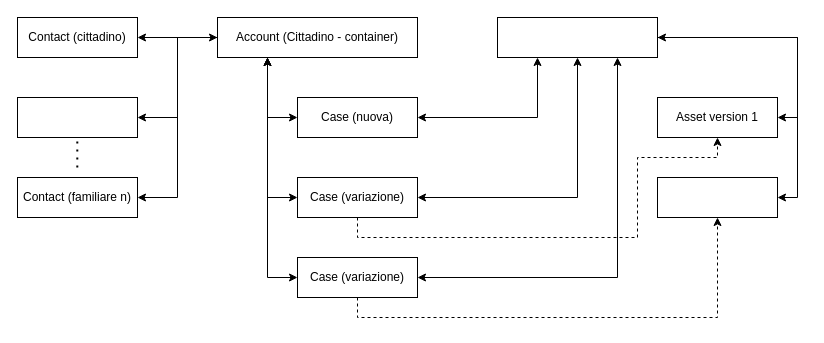
Some shapes in this 824 by 343 pixel diagram are drawn without their labels. The shapes that lost their labels are listed below. From the top down, each one's centre as x and y in pixels, then its label:
[577,37]: Asset TARI
[77,117]: Contact (familiare 1)
[717,197]: Asset version 2
